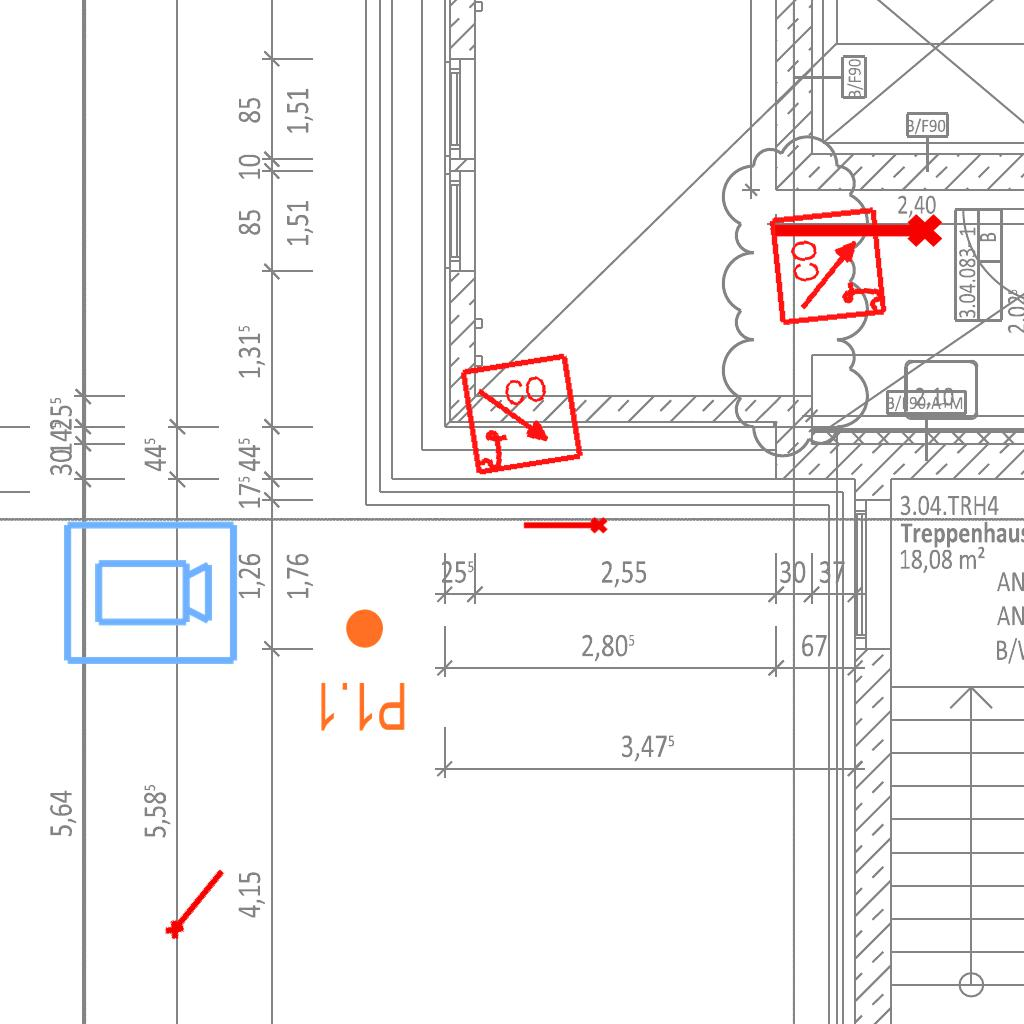ASR_Ansaugoeffnung: (769, 210, 945, 256), (158, 861, 232, 944), (521, 515, 609, 538)
Downlight_LED_Einbauleuchten_Flur: (315, 606, 408, 734)
KFO_Kamera_mit_Festobjektiv: (59, 517, 241, 671)
ROA_Rauchmelder_optisch_mit_Signalgeber_(Sockelsirene): (457, 350, 588, 481), (767, 203, 892, 328)
